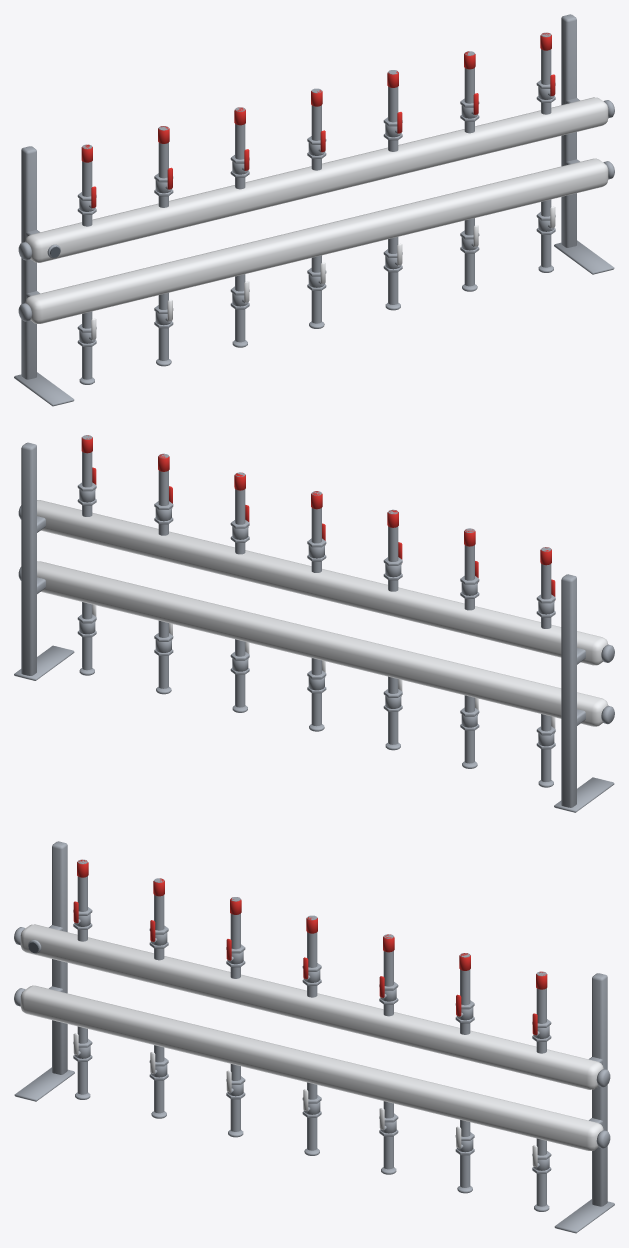
File: heizung.verteiler.n7.glb
The picture shows the model from 3 angles, top to bottom: view 1: azimuth 30°, elevation 25°; view 2: azimuth 150°, elevation 25°; view 3: azimuth 330°, elevation 25°; orthographic projection.
Visible parts, largest first — view 1: heizung.verteiler.n7; view 2: heizung.verteiler.n7; view 3: heizung.verteiler.n7.
Part boxes in pixels (<box>): heizung.verteiler.n7: <box>14,14,614,406</box>; heizung.verteiler.n7: <box>14,435,614,812</box>; heizung.verteiler.n7: <box>14,841,614,1233</box>.
Bounding box in the file's own units: 2.62 × 1 × 0.3.
